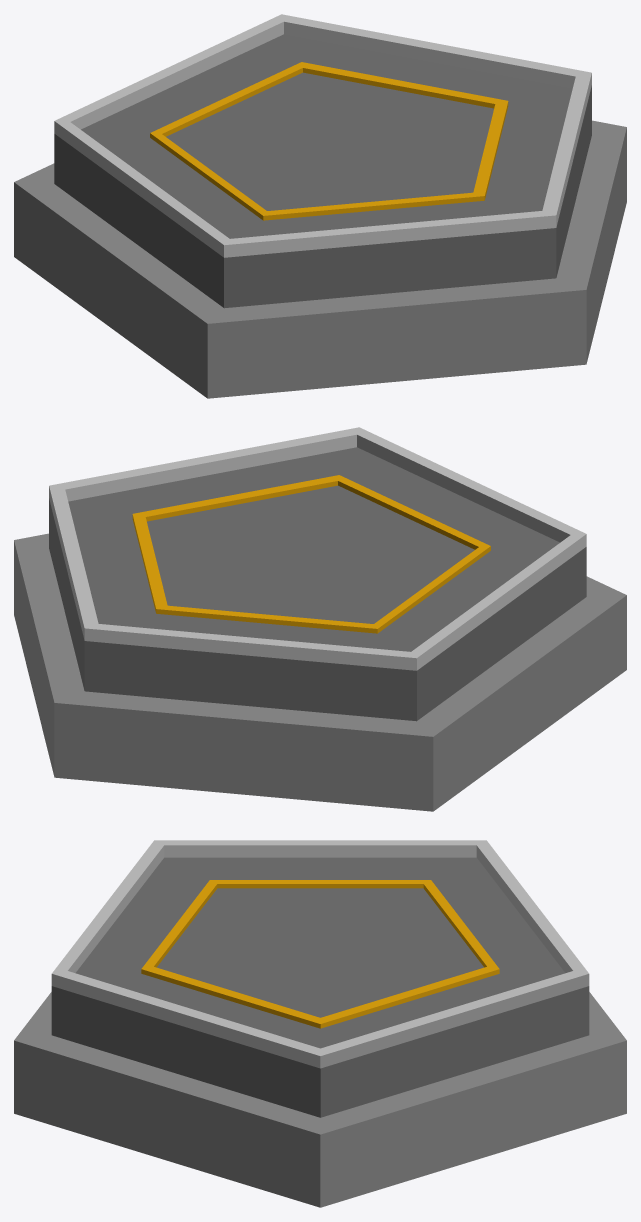
3 views of the same model, one above another, from view 1: azimuth 30°, elevation 25°; view 2: azimuth 150°, elevation 25°; view 3: azimuth 270°, elevation 25° (orthographic). The views are drawn at different scales.
Visible parts, largest first — view 1: pCylinder1; view 2: pCylinder1; view 3: pCylinder1.
Part boxes in pixels (x1,y1,x2,y2): pCylinder1: (14, 14, 626, 398); pCylinder1: (14, 427, 626, 811); pCylinder1: (14, 840, 626, 1207).
Size of the model in its own units: 4.13 by 1.05 by 4.34.
